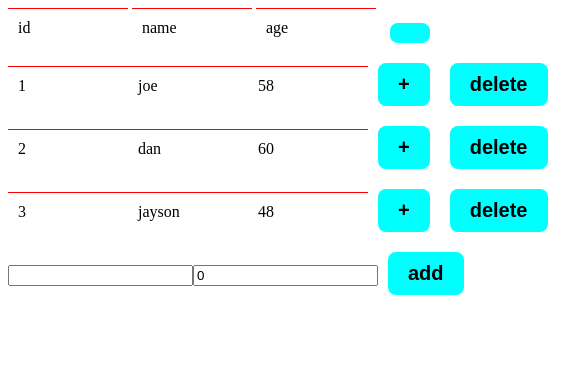
Test: sets hover state names
The width and height of the screenshot is (565, 367).
Hover over the list item with test id "item-2" at (278, 148), box [8,126,548,169]
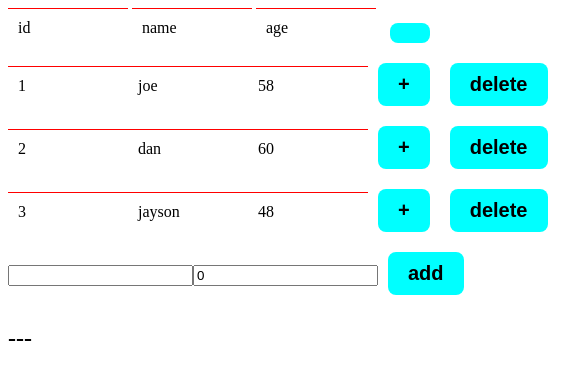
Result: the heading with test id "person" reads "---" at [8,325,32,351]
